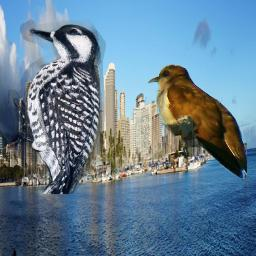Cuckoo: (148, 64, 247, 181)
Woodpecker: (8, 18, 106, 194)
